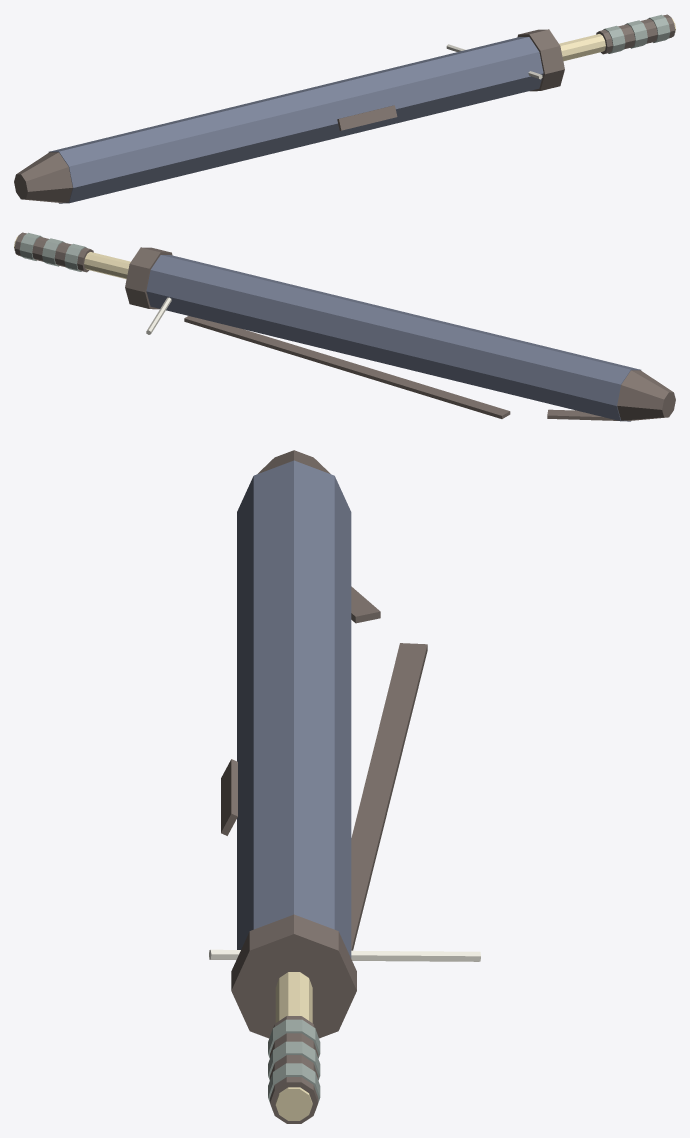
Rendered from Prop_ShinaiBag.fbx.
3 renders of one model, top to bottom at view 1: azimuth 30°, elevation 25°; view 2: azimuth 150°, elevation 25°; view 3: azimuth 270°, elevation 25°, orthographic. The views are drawn at different scales.
Visible parts, largest first — view 1: Prop_ShinaiBag; view 2: Prop_ShinaiBag; view 3: Prop_ShinaiBag.
Boxes of the visible parts, x1,y1,x2,y2 form: Prop_ShinaiBag: (14, 14, 675, 203); Prop_ShinaiBag: (14, 232, 675, 421); Prop_ShinaiBag: (209, 450, 480, 1123).
Bounding box in the file's own units: 162 × 13.6 × 29.46.
